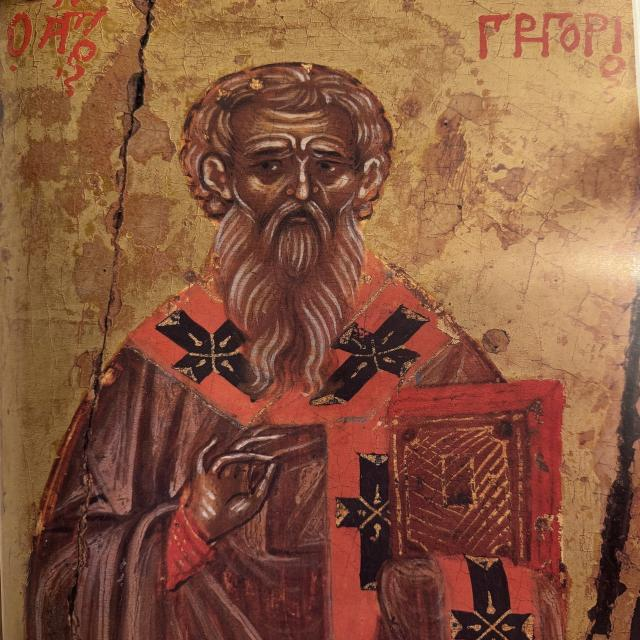aura: (78, 1, 499, 273)
book: (377, 371, 571, 591)
saint: (21, 10, 589, 640)
